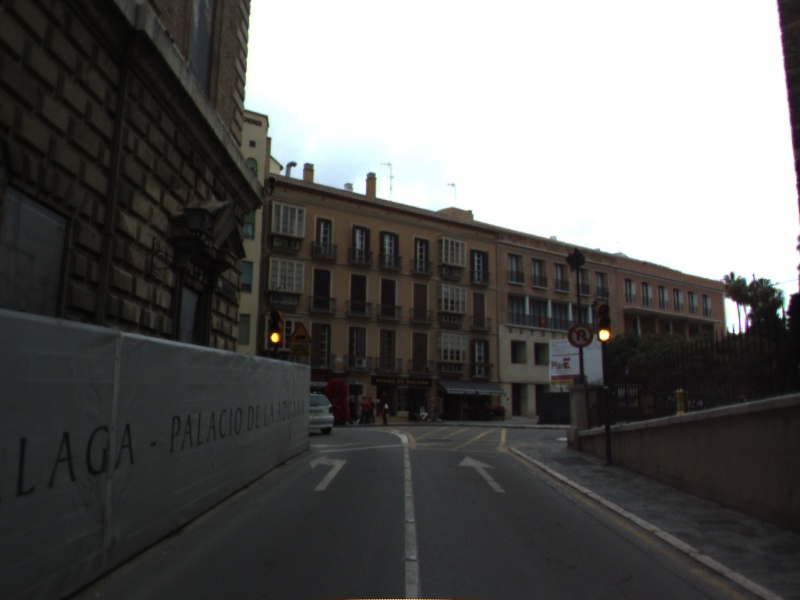LEFT: (307, 453, 349, 493)
STRAIGHT: (457, 453, 507, 494)
